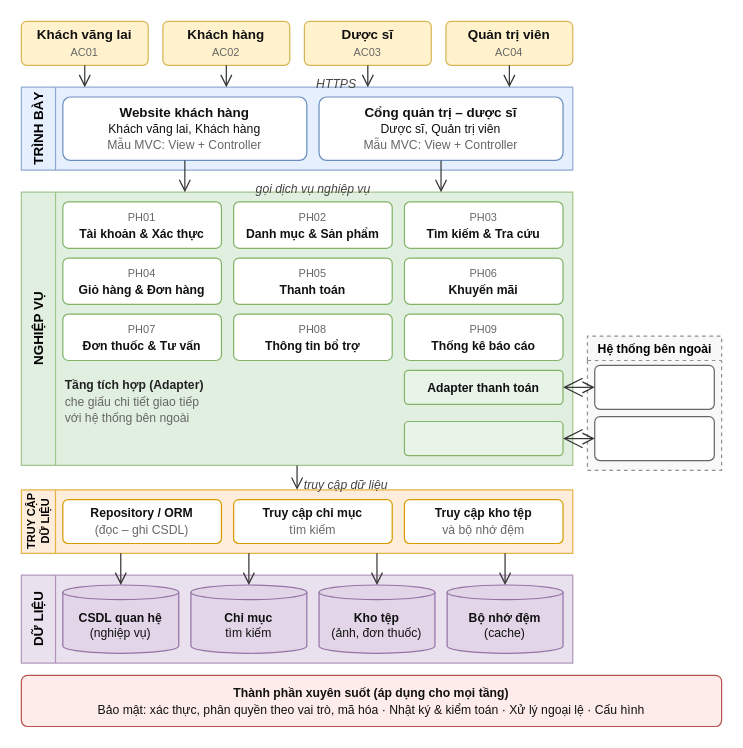
This 743x748 diagram has some shape labels left out. The shapes that lost their labels are listed below. From the top down, each one's centre as x and y in pixels, then its label:
At pixel 654 386: "Cổng thanh toán (AC05)".
At pixel 483 438: "Adapter xác thực".
At pixel 654 438: "Dịch vụ xác thực bên ngoài (AC06)".
